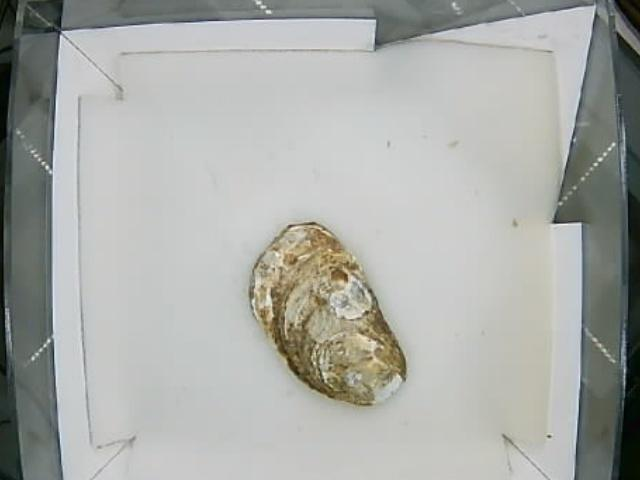Shell: (252, 220, 410, 403)
